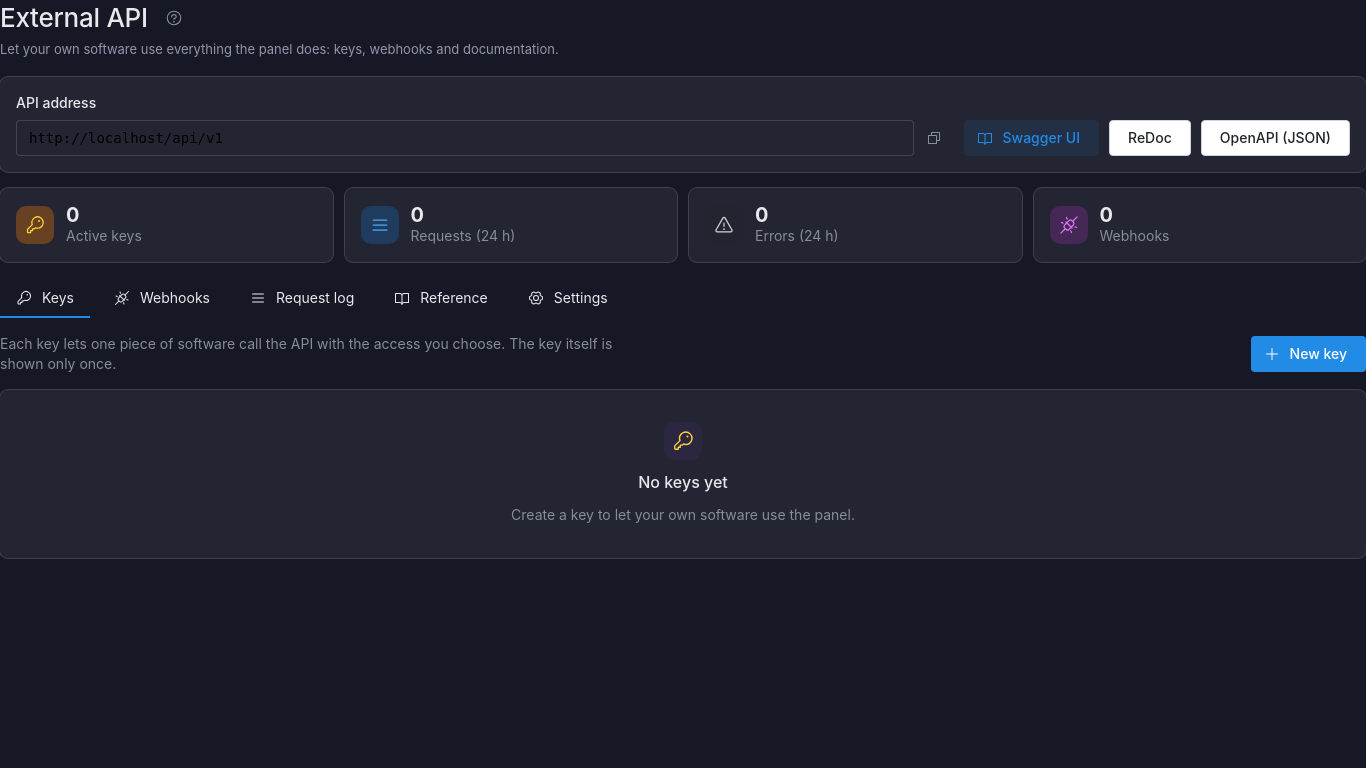
Test case: ApiAccessPage › creates a key with custom scopes and shows the secret once
The image size is (1366, 768).
Expected: the element with test id "no-keys" is shown, [0,390,1365,558]
Click the button "New key": (1308, 354) [1250,336,1365,372]
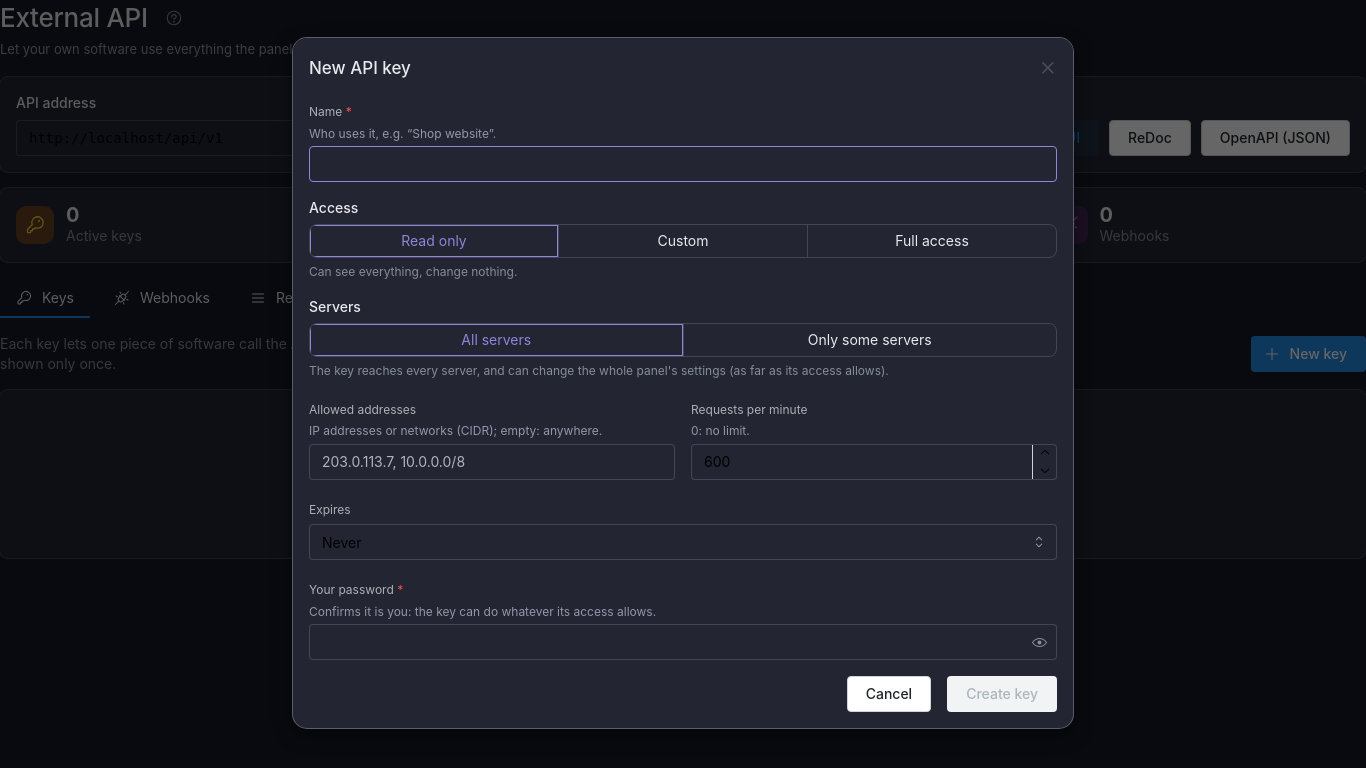
In the field labelled "Name *": (683, 164) [309,146,1057,182], type "CI"
Click the text "Custom": (683, 241) [658,233,708,250]
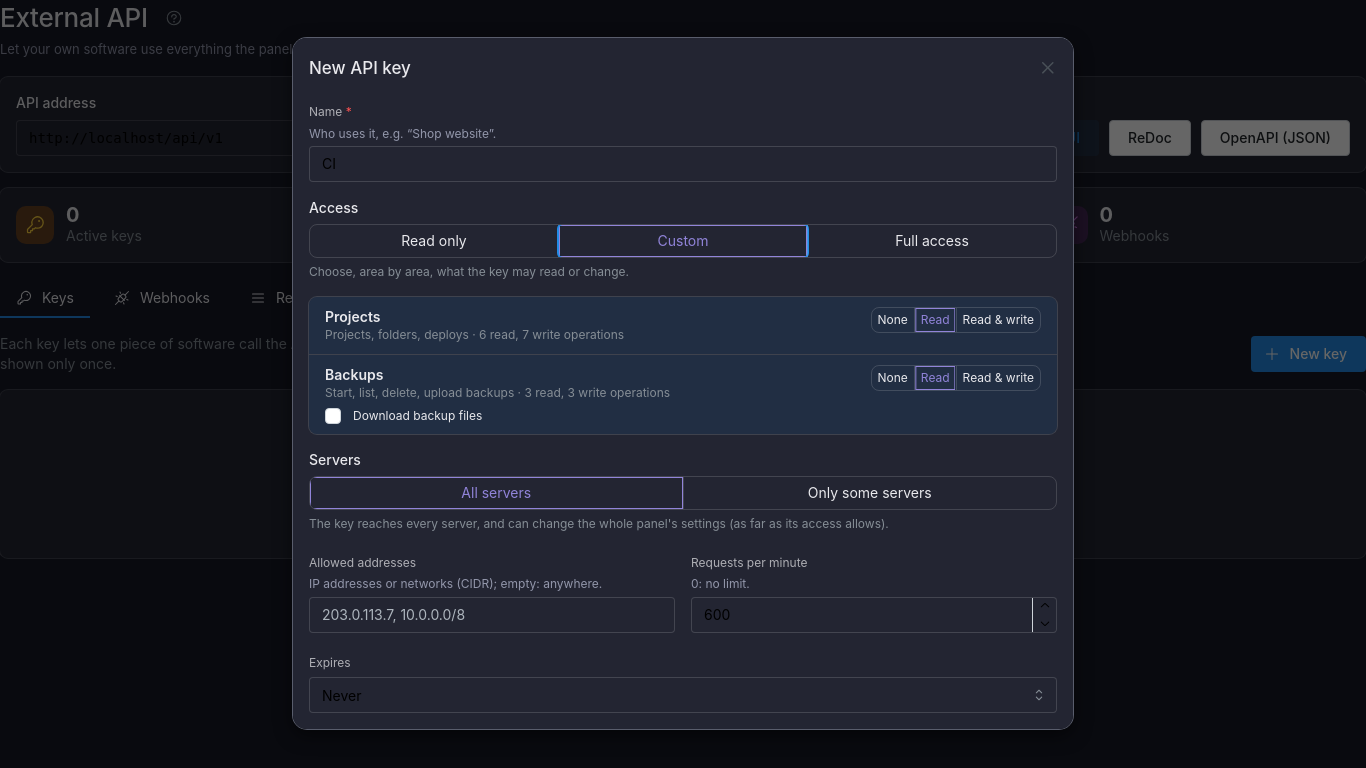
Click the 1st text "Read & write": (998, 320) [963,312,1034,327]
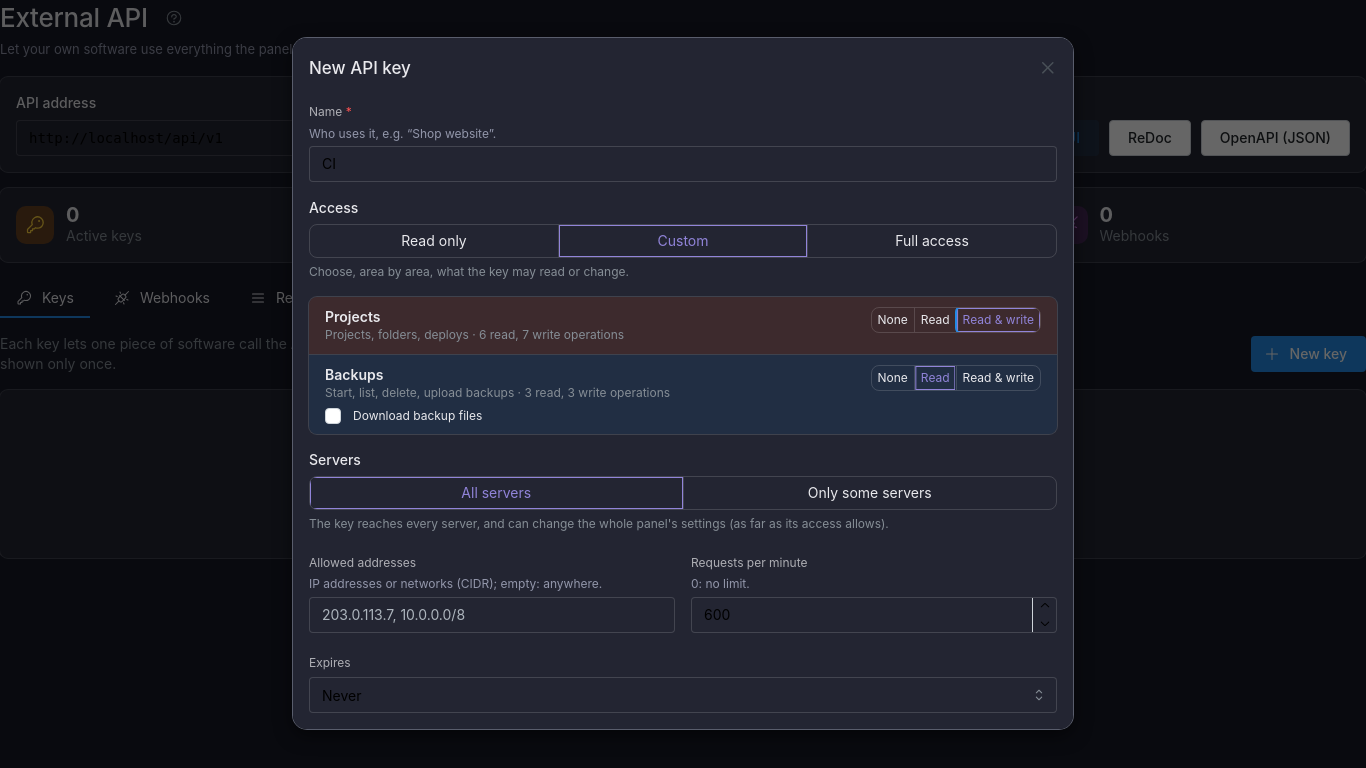
Click the checkbox labelled "Download backup files": (333, 416) [325,408,341,424]
(page scrolled)
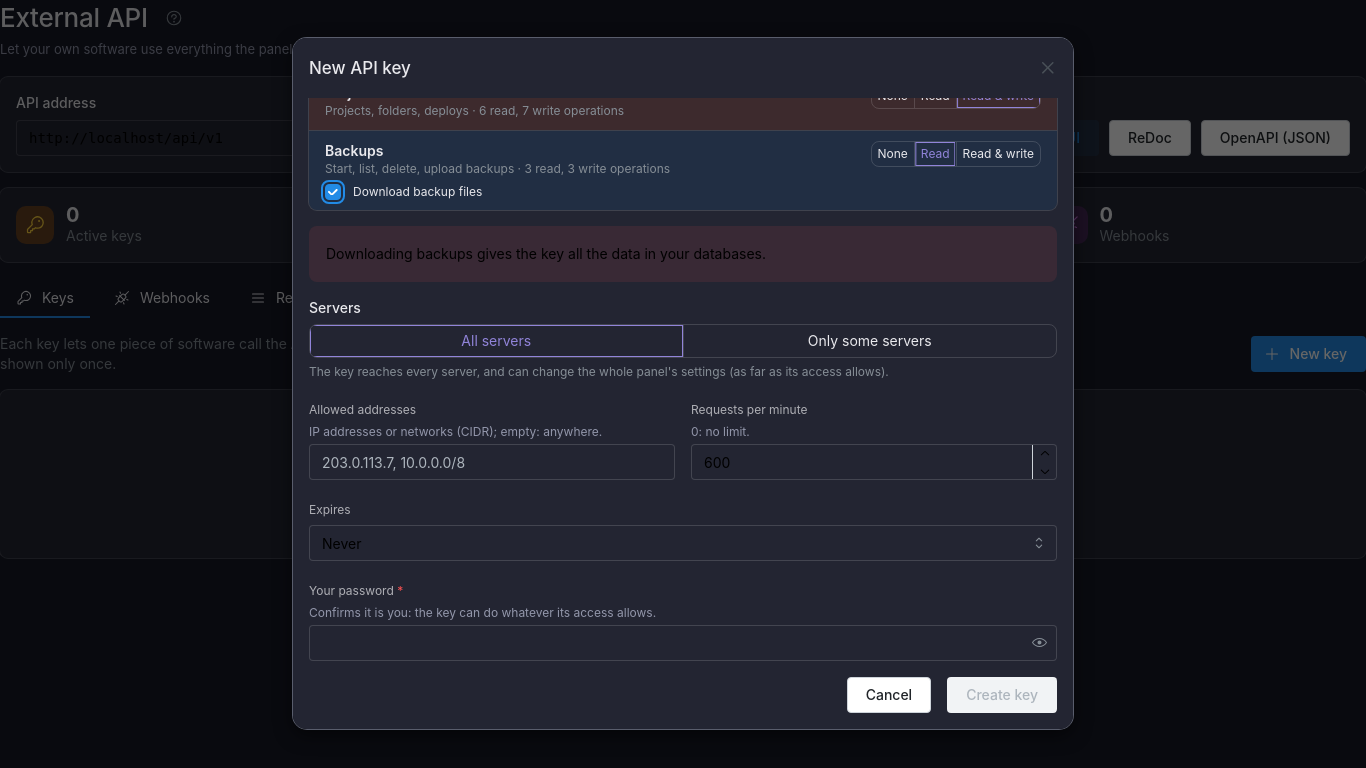
In the password field labelled "Your password *": (683, 643) [310,626,1056,660], type "pw"
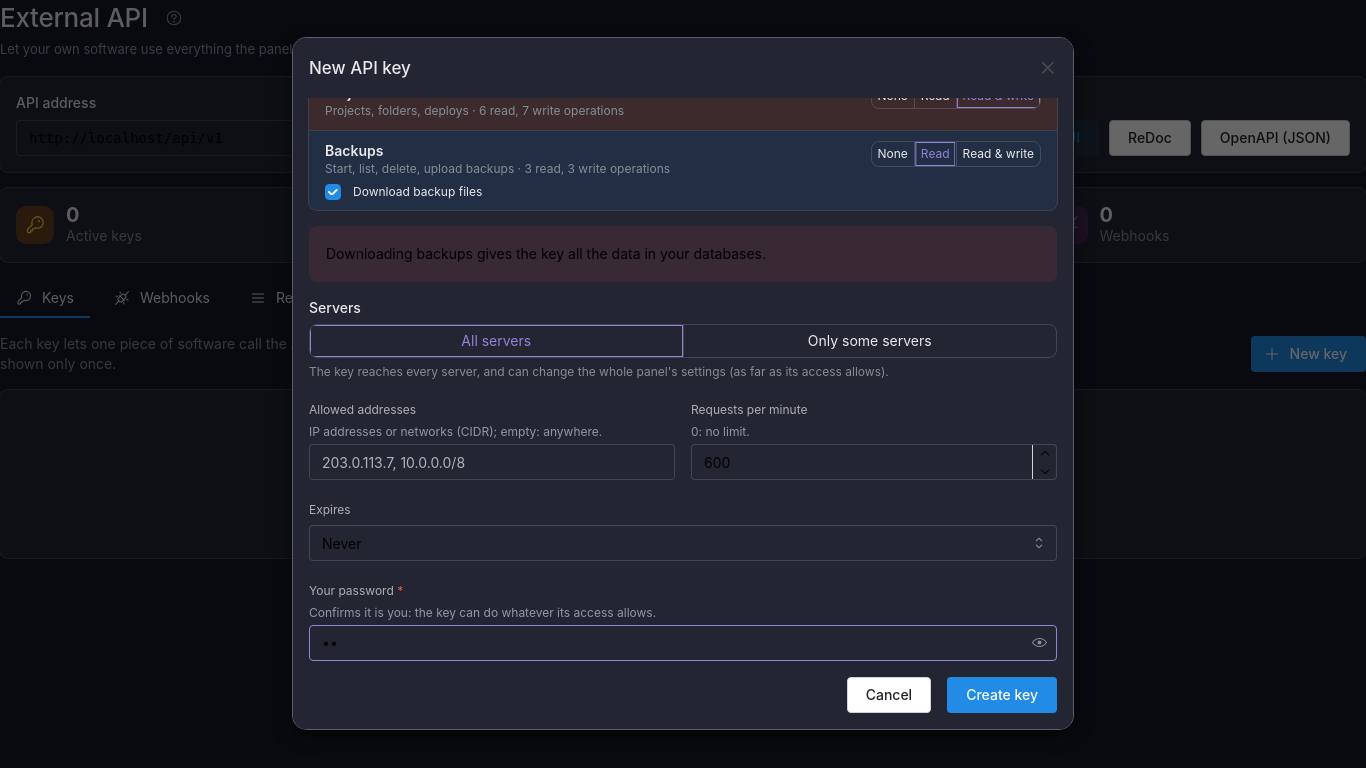
Click the button "Create key": (1002, 695) [947,677,1057,713]
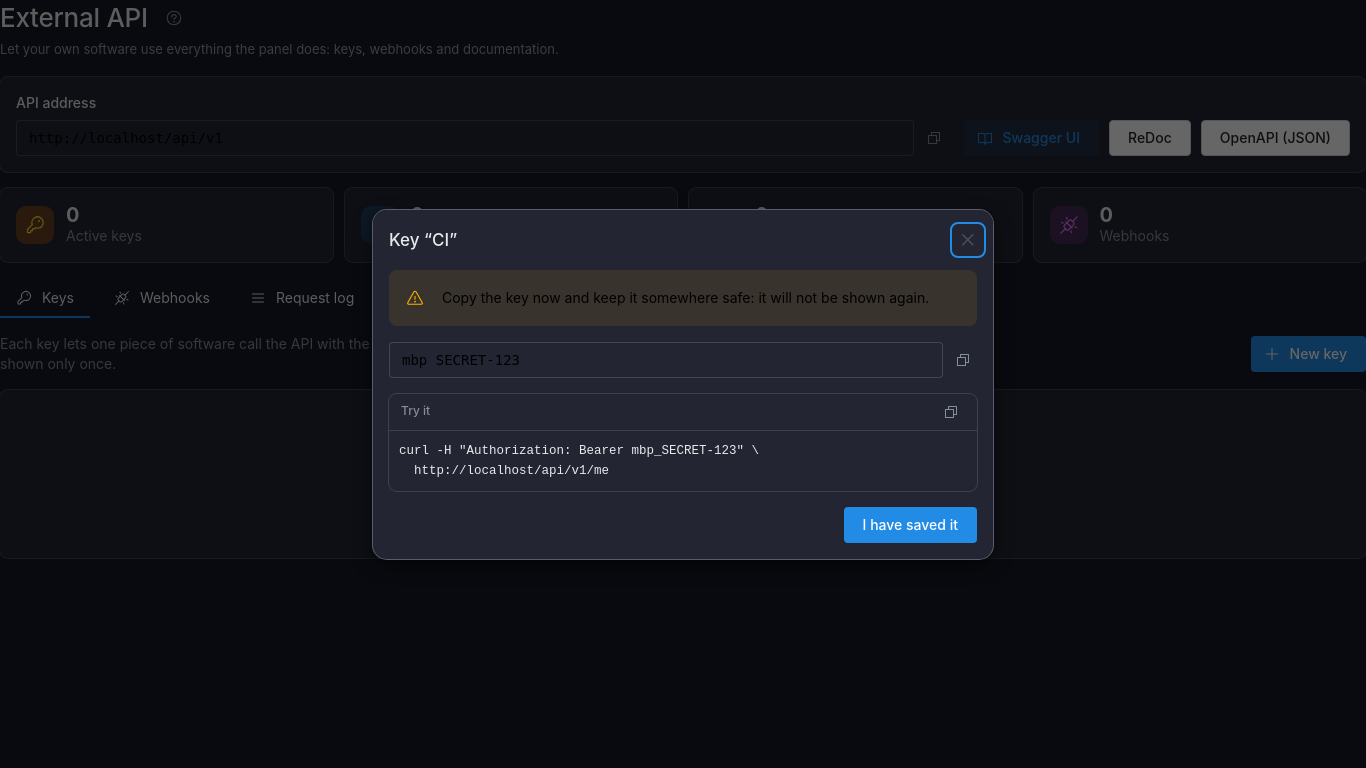
Expected: the field showing "mbp_SECRET-123" is shown, [389,341,943,377]
